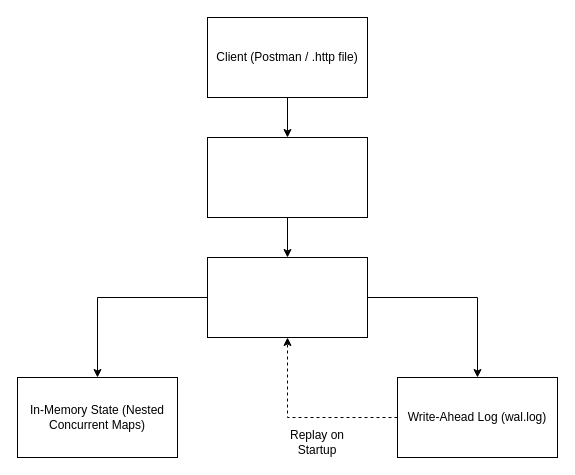
Image size: 575x475. Some labels were removed from this diagram. The shapes that lost their labels are listed below. From the top down, each one's centre as x and y in pixels, then its label:
point 287,177: REST API (DatabaseController)
point 287,297: StorageService
